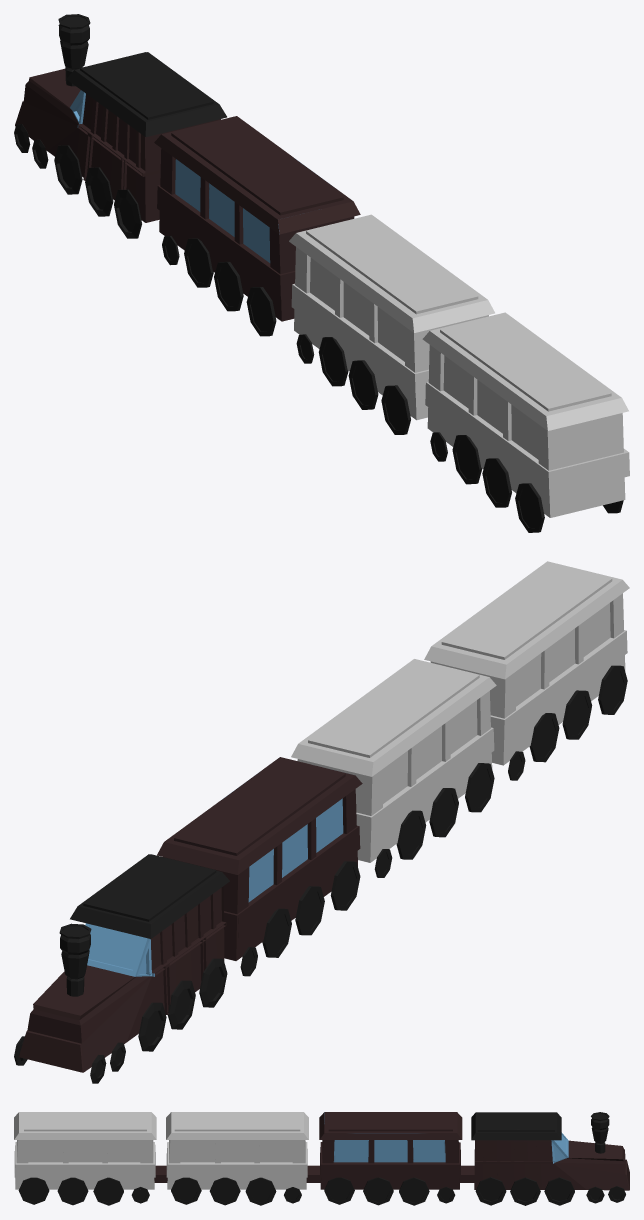
File: Tren.fbx
3 views of the same model, one above another, from view 1: azimuth 30°, elevation 25°; view 2: azimuth 150°, elevation 25°; view 3: azimuth 270°, elevation 25° (orthographic). The views are drawn at different scales.
Parts seen in each view (by area): view 1: vagon.002, locomotora, ruedas-vagon, ruedas-vapor; view 2: vagon.002, locomotora, ruedas-vagon, ruedas-vapor; view 3: vagon.002, locomotora, ruedas-vagon, ruedas-vapor.
Part boxes in pixels (bbox=[...]): vagon.002: bbox=[154, 116, 629, 517]; locomotora: bbox=[15, 52, 226, 222]; ruedas-vagon: bbox=[162, 235, 623, 532]; ruedas-vapor: bbox=[14, 14, 141, 238]; vagon.002: bbox=[157, 561, 629, 960]; locomotora: bbox=[19, 854, 229, 1072]; ruedas-vagon: bbox=[240, 665, 627, 976]; ruedas-vapor: bbox=[14, 923, 227, 1083]; vagon.002: bbox=[14, 1112, 474, 1189]; locomotora: bbox=[471, 1112, 629, 1190]; ruedas-vagon: bbox=[18, 1177, 455, 1205]; ruedas-vapor: bbox=[475, 1112, 625, 1205].
Bounding box in the file's own units: 372 × 563 × 4015.
